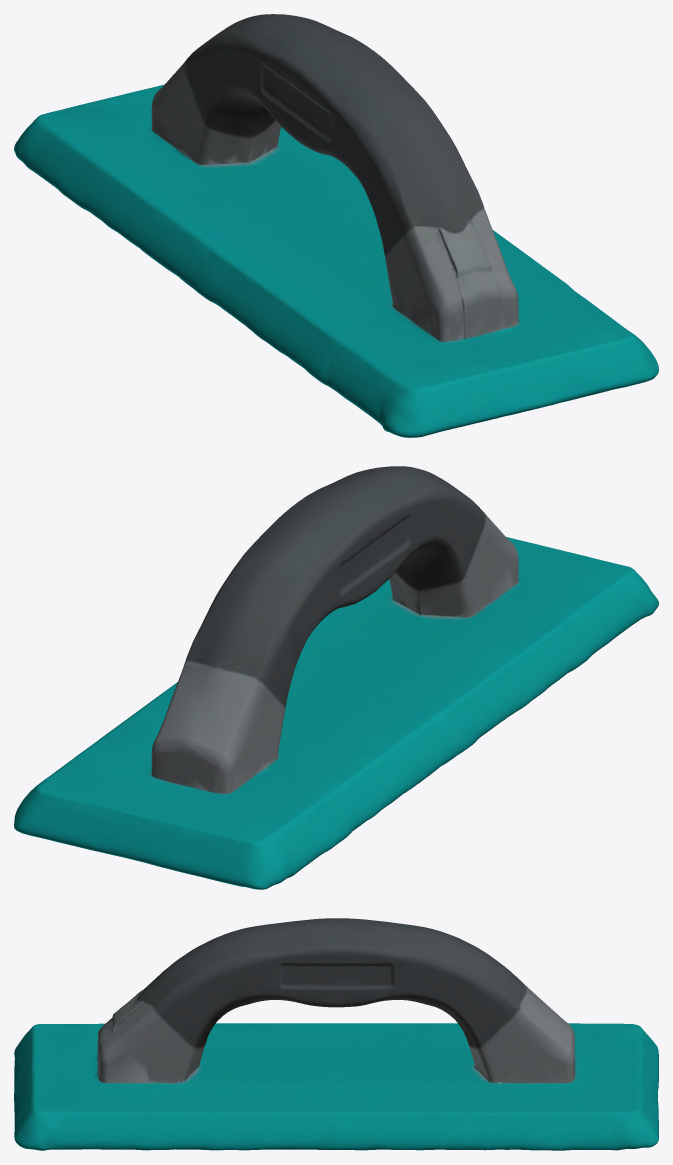
The model's file is epoxy-grout-float-thermoplastic-rubber-pad.glb.
The picture shows the model from 3 angles, top to bottom: view 1: azimuth 30°, elevation 25°; view 2: azimuth 150°, elevation 25°; view 3: azimuth 270°, elevation 25°; orthographic projection. The views are drawn at different scales.
Parts seen in each view (by area): view 1: tripo_node_4a5a964d-d833-48b2-9b3e-48b3f040406f; view 2: tripo_node_4a5a964d-d833-48b2-9b3e-48b3f040406f; view 3: tripo_node_4a5a964d-d833-48b2-9b3e-48b3f040406f.
Boxes of the visible parts, x1,y1,x2,y2 form: tripo_node_4a5a964d-d833-48b2-9b3e-48b3f040406f: (14,14,658,437); tripo_node_4a5a964d-d833-48b2-9b3e-48b3f040406f: (14,466,658,889); tripo_node_4a5a964d-d833-48b2-9b3e-48b3f040406f: (14,918,658,1150).
Size of the model in its own units: 0.3888 by 0.298 by 1.
1 material, 1 textured.
